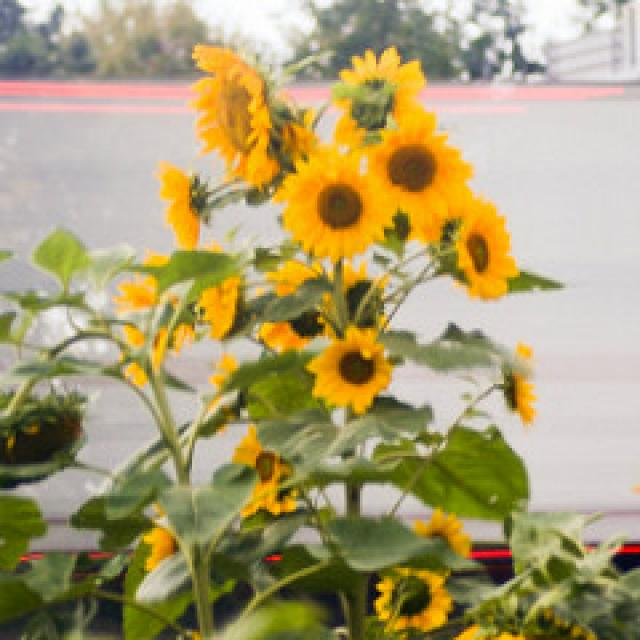sunflower: (182, 37, 294, 187), (278, 142, 398, 260), (335, 40, 436, 136), (306, 323, 398, 420), (447, 197, 521, 312)
